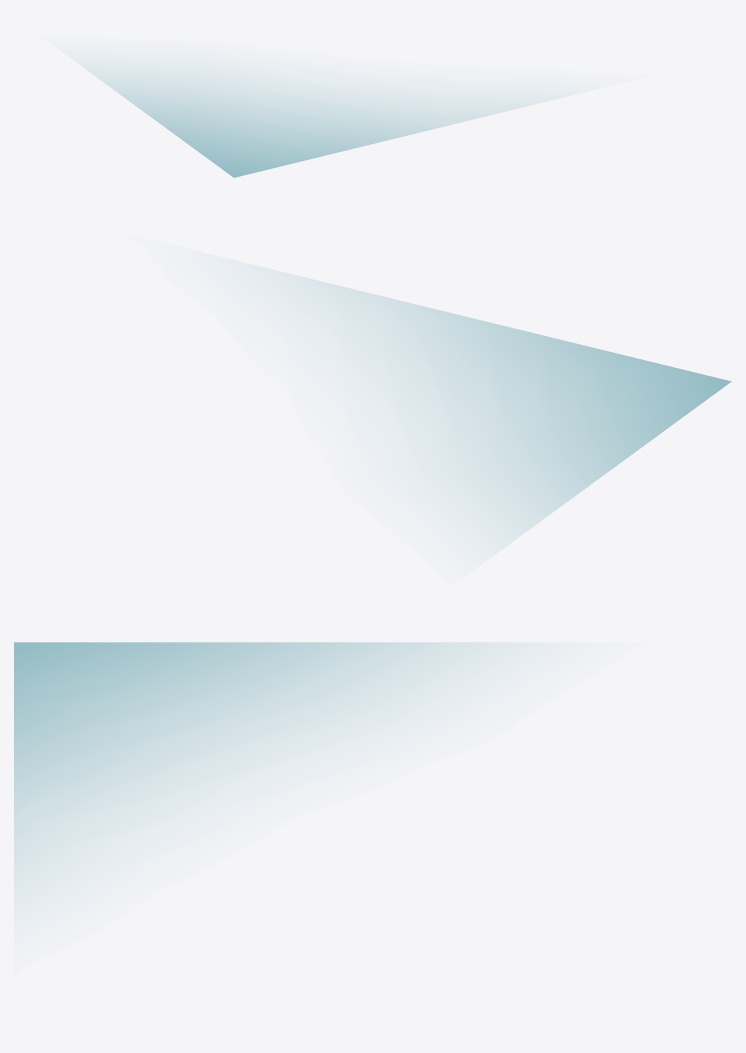
The picture shows the model from 3 angles, top to bottom: view 1: azimuth 30°, elevation 25°; view 2: azimuth 150°, elevation 25°; view 3: azimuth 270°, elevation 25°; orthographic projection. The views are drawn at different scales.
Visible parts, largest first — view 1: city; view 2: city; view 3: city.
Part boxes in pixels (x1=…): city: x1=80, y1=64, x2=553, y2=177; city: x1=268, y1=269, x2=731, y2=544; city: x1=14, y1=642, x2=518, y2=898.
Size of the model in its own units: 483 by 0 by 370.
